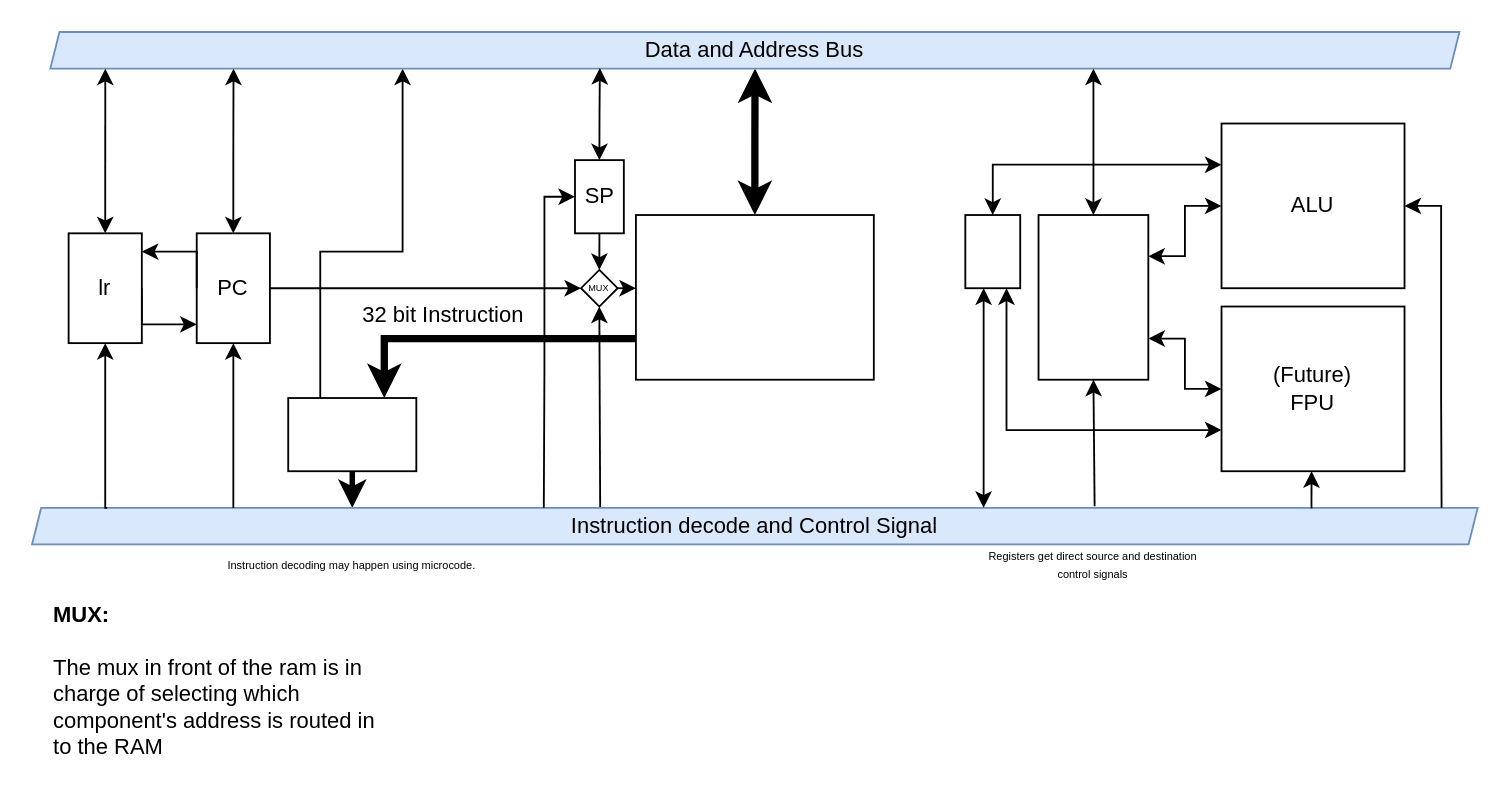
Some shapes in this 1510 by 811 pixel diagram are drawn without their labels. Each missing label, with the centre of its shape:
"CPSR" belongs at point 991,250.
"GP Registers r0 - r3, rs, b1, b2 (Future) FPR's" belongs at point 1092,296.
"Instruction register" belongs at point 351,433.
"RAM" belongs at point 754,296.
